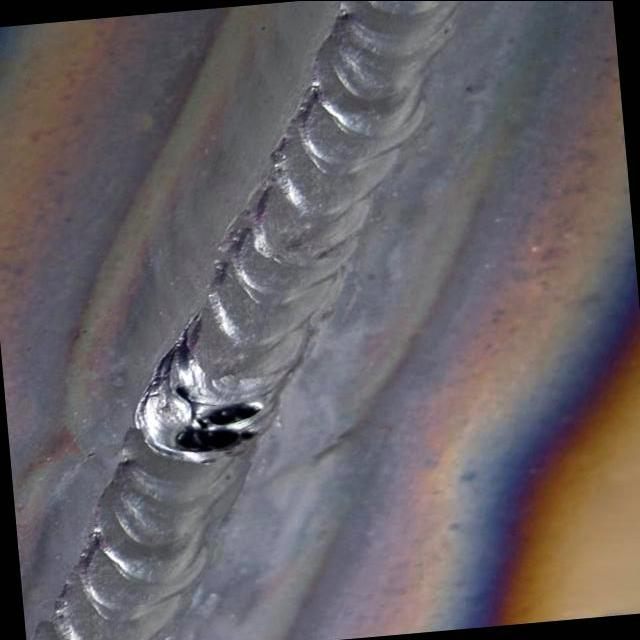defect: (167, 396, 271, 460)
